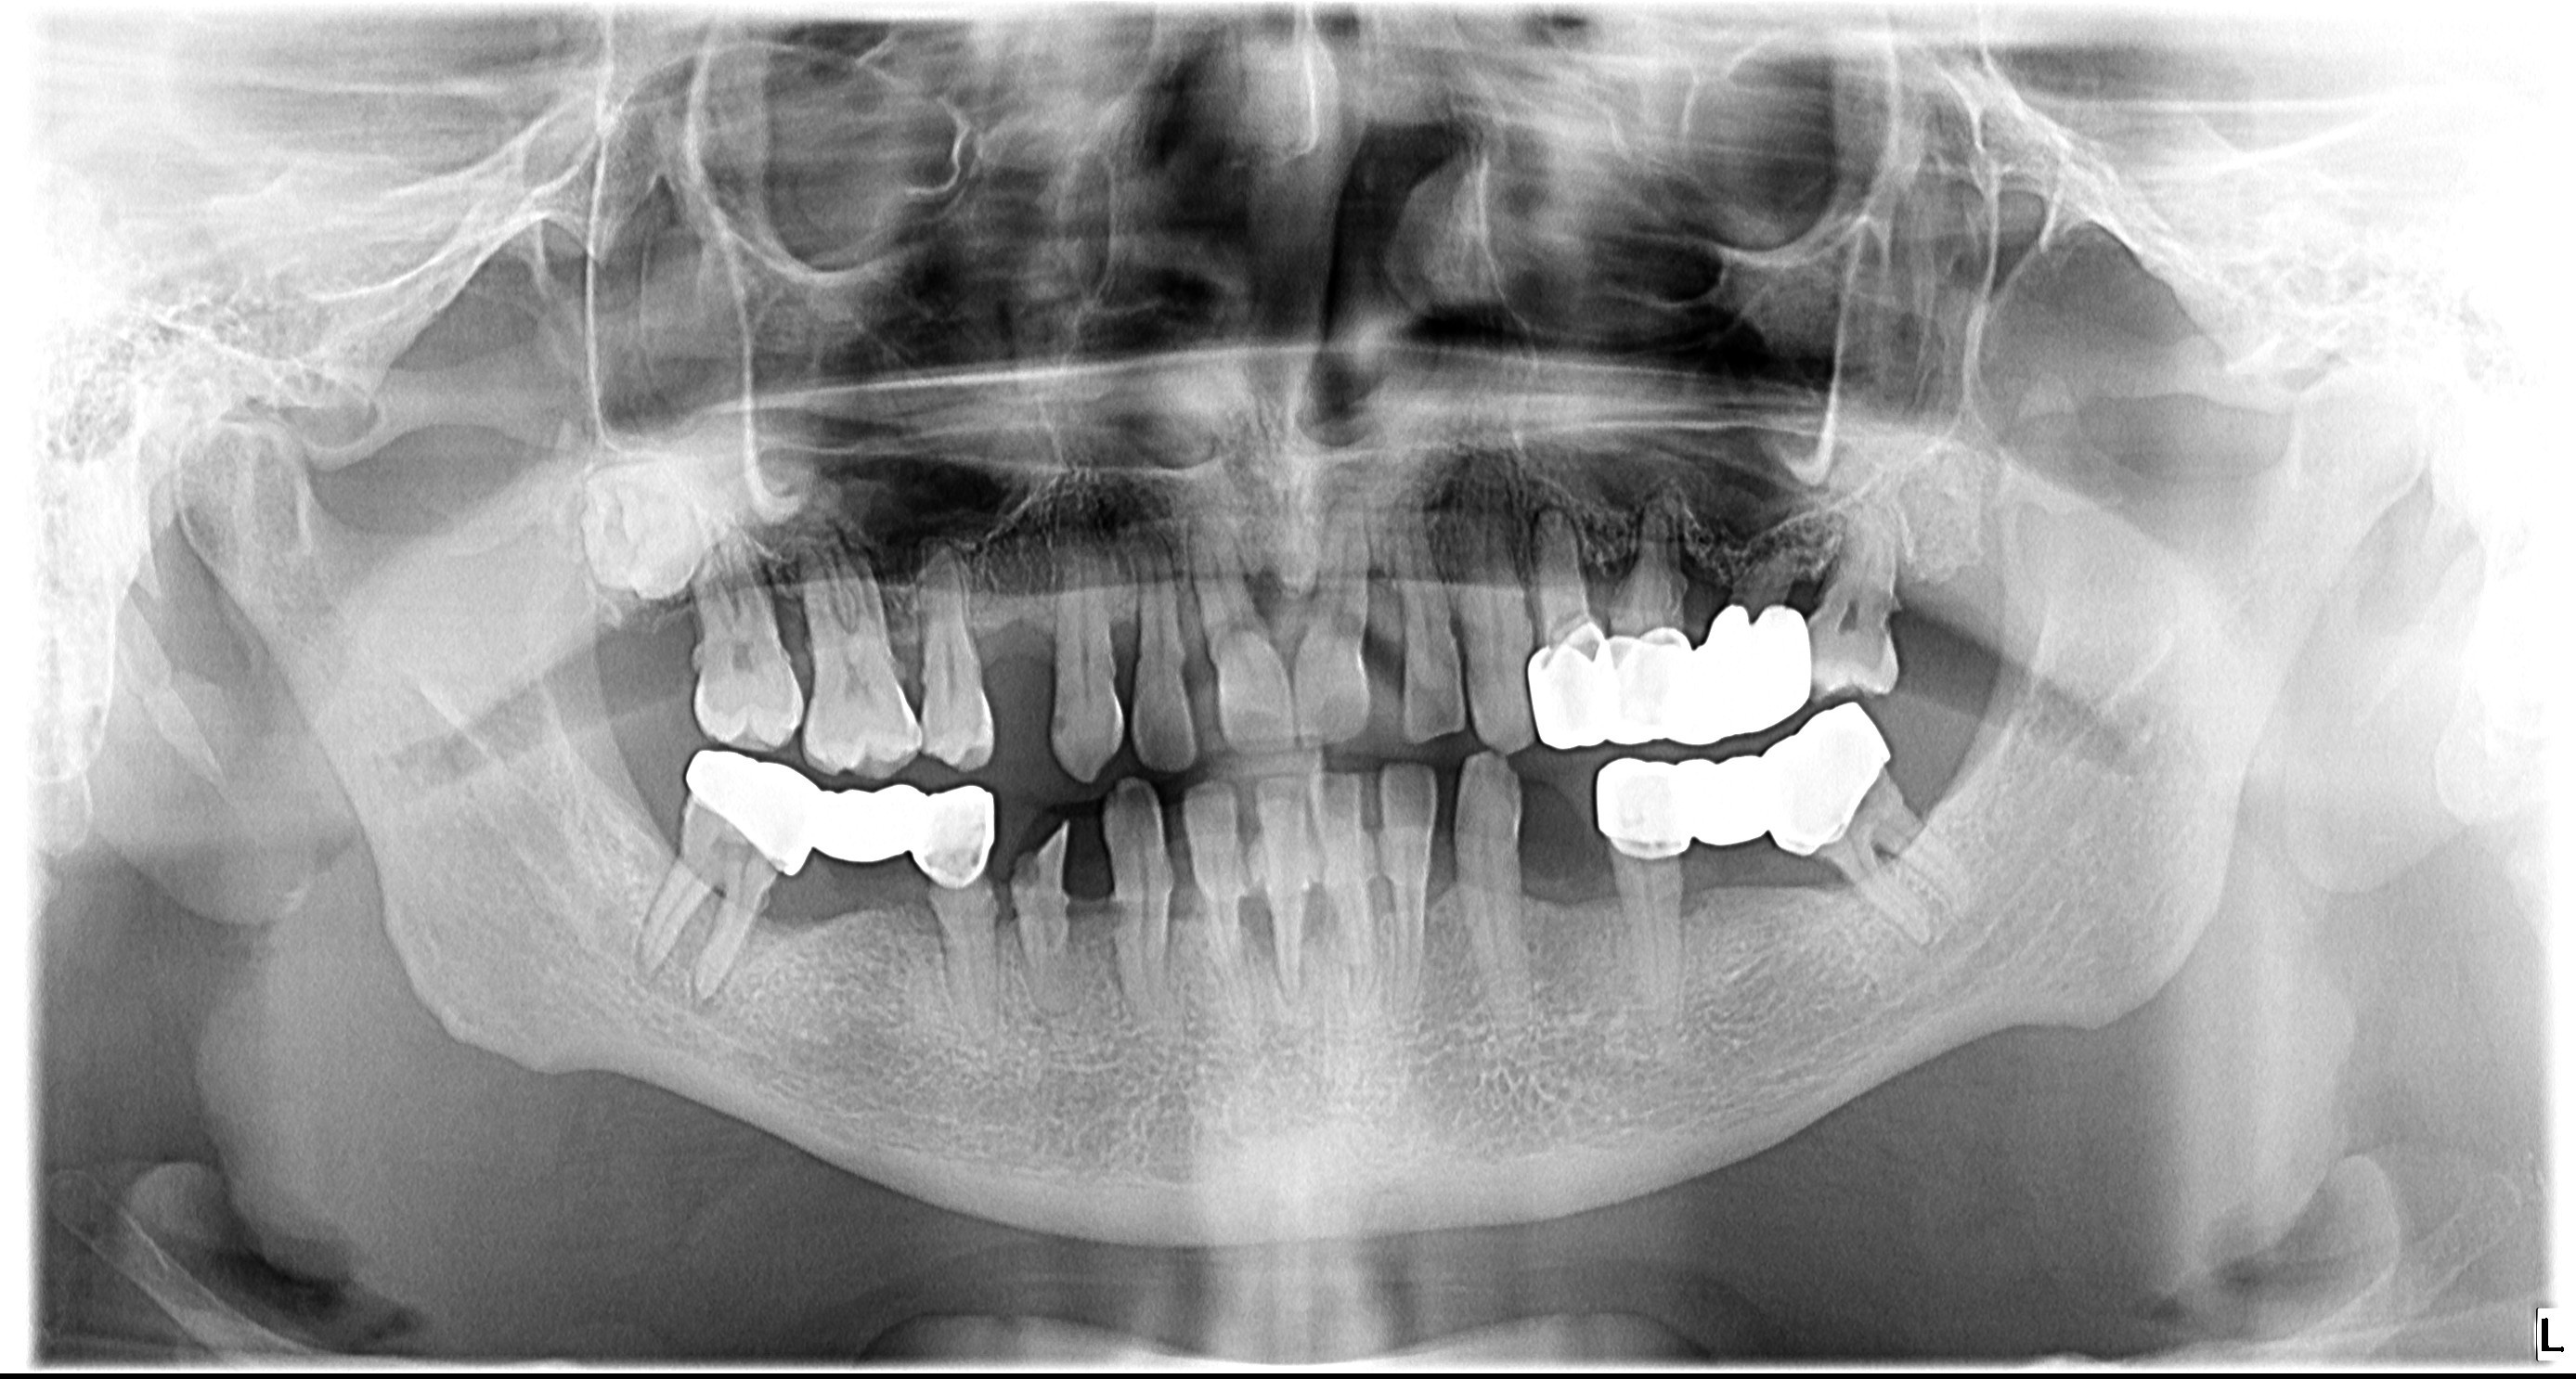API: (681, 976, 731, 1037), (629, 933, 670, 1001)
BON: (567, 438, 721, 616)
CAR: (1012, 831, 1053, 902), (1041, 705, 1075, 747), (975, 856, 997, 894)
FUR: (1843, 827, 1925, 870), (690, 877, 739, 930)
IMT: (722, 885, 837, 984), (1230, 558, 1300, 642), (1351, 546, 1402, 650), (1583, 533, 1646, 616), (1291, 875, 1344, 953), (1230, 890, 1279, 974), (1411, 843, 1460, 924), (1060, 865, 1114, 936), (1152, 867, 1210, 928), (1177, 574, 1213, 669), (894, 884, 946, 950), (1675, 533, 1716, 613), (1799, 861, 1872, 904), (1107, 598, 1140, 667), (900, 904, 959, 941), (1671, 868, 1711, 923), (990, 880, 1019, 943), (1791, 560, 1825, 606)
OBT: (671, 742, 998, 899), (1504, 609, 1811, 735), (1593, 710, 1883, 843)
